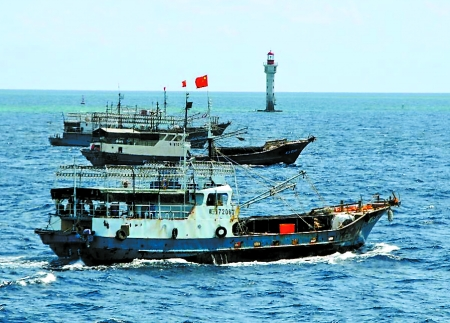otherboat: (37, 137, 399, 268), (79, 118, 315, 167), (44, 84, 215, 145)
